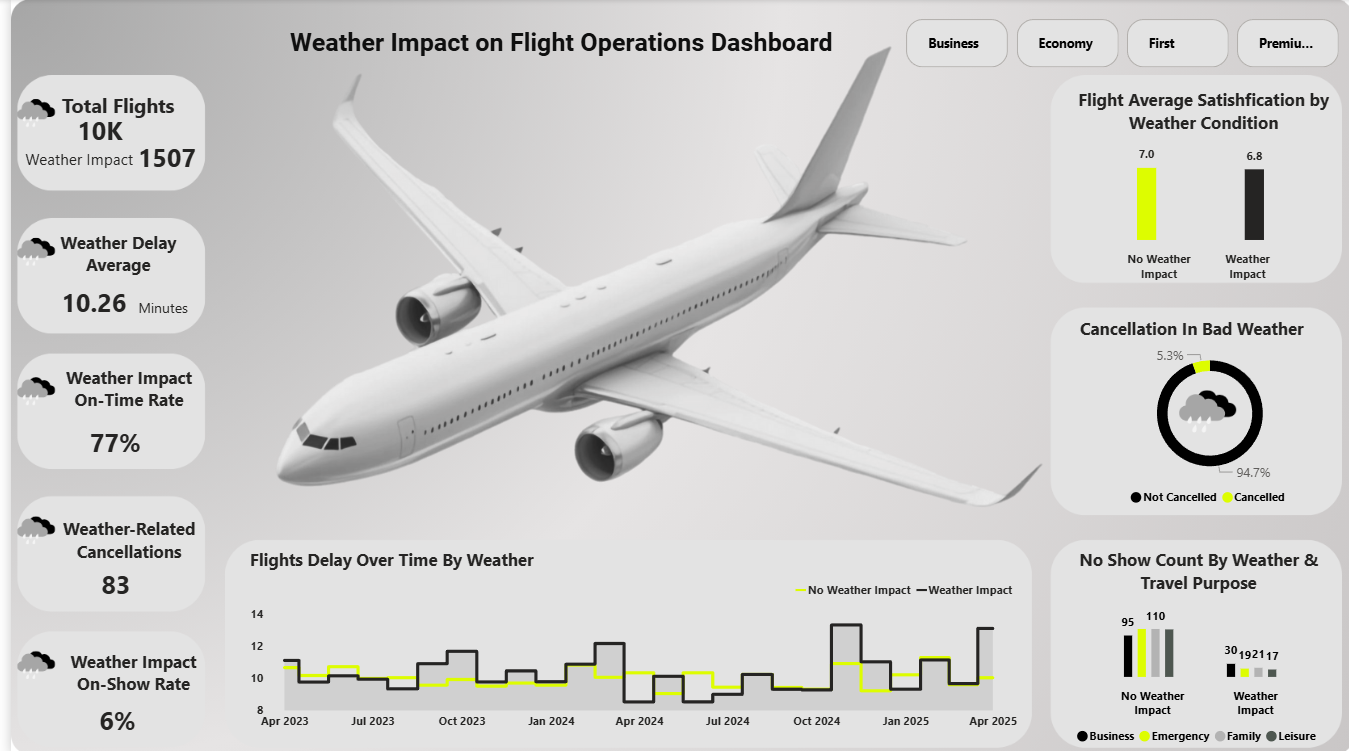

This screenshot's page, from the dashboard's own definition file:
{"tool":"powerbi","page":{"name":"Page 1","canvas":[1280,720],"ordinal":0},"visuals":[{"type":"textbox","box":[260.2,21.1,541.4,42.2],"z":0},{"type":"card","fields":{"Values":["Flights_Dataset.Total Flights"]},"box":[32.8,98.4,103.1,55.1],"z":1000},{"type":"card","fields":{"Values":["Flights_Dataset.Total Flights (weather impact)"]},"box":[104.3,131.3,87.9,43.4],"z":2000},{"type":"card","fields":{"Values":["Flights_Dataset.avg_delay(weather impact)"]},"box":[0,266,158.2,49.2],"z":3000},{"type":"card","fields":{"Values":["Flights_Dataset.ontime%(weather impact)"]},"box":[36.3,397.3,125.4,51.6],"z":4000},{"type":"card","fields":{"Values":["Flights_Dataset.total cancellation (weather impact)"]},"box":[32.8,534.4,133.6,48],"z":5000},{"type":"card","fields":{"Values":["Flights_Dataset.Noshowrate%(weather impact)"]},"box":[52.7,672.7,98.4,31.6],"z":6000},{"type":"areaChart","title":"Flights Delay Over Time By Weather ","fields":{"Y":["Flights_Dataset.Average delay flights"],"Category":["Flights_Dataset.Departure_Time.Variation.Date Hierarchy.Year","Flights_Dataset.Departure_Time.Variation.Date Hierarchy.Month"],"Series":["Flights_Dataset.Weatherimpactlabel"]},"box":[222.7,522.7,740.6,181.6],"z":7000},{"type":"clusteredColumnChart","title":"Flight Average Satishfication by Weather Condition","fields":{"Y":["Flights_Dataset.Average flight satishfication score"],"Category":["Flights_Dataset.Weatherimpactlabel"],"Series":["Flights_Dataset.Weatherimpactlabel"]},"box":[991.4,84.4,288.3,192.2],"z":8000},{"type":"donutChart","title":"Cancellation In Bad Weather","fields":{"Category":["Flights_Dataset.cancelllation_label"],"Y":["CountNonNull(Flights_Dataset.Flight_ID)"]},"box":[1012.5,302.3,257.8,189.8],"z":9000},{"type":"clusteredColumnChart","title":"No Show Count By Weather & Travel Purpose","fields":{"Category":["Flights_Dataset.Weatherimpactlabel"],"Y":["Sum(Flights_Dataset.No_Show)"],"Series":["Flights_Dataset.Travel_Purpose"]},"box":[991.4,522.7,278.9,196.9],"z":10000},{"type":"advancedSlicerVisual","fields":{"Values":["Flights_Dataset.Seat_Class"]},"box":[847.3,14.1,423.1,56.3],"z":11000},{"type":"textbox","box":[36.3,83.2,130.1,43.4],"z":11001},{"type":"textbox","box":[11.7,215.6,180.5,60.9],"z":11002},{"type":"textbox","box":[31.6,344.5,160.5,60.9],"z":11003},{"type":"textbox","box":[36.3,487.5,151.2,70.3],"z":11004},{"type":"textbox","box":[42.2,614.1,150,75],"z":11005},{"type":"textbox","box":[0,137.1,130.1,43.4],"z":11006},{"type":"textbox","box":[79.7,280.1,130.1,43.4],"z":11007}]}

Visuals, with their boxes in screenshot pixels (x1, y1, x2, y2), scaled from the page's 1280x720 canvas onto the 1349x751 screenshot:
textbox: bbox=[274, 22, 845, 66]
card - Flights_Dataset.Total Flights: bbox=[35, 103, 143, 160]
card - Flights_Dataset.Total Flights (weather impact): bbox=[110, 137, 203, 182]
card - Flights_Dataset.avg_delay(weather impact): bbox=[0, 277, 167, 329]
card - Flights_Dataset.ontime%(weather impact): bbox=[38, 414, 170, 468]
card - Flights_Dataset.total cancellation (weather impact): bbox=[35, 557, 175, 607]
card - Flights_Dataset.Noshowrate%(weather impact): bbox=[56, 702, 159, 735]
"Flights Delay Over Time By Weather " areaChart: bbox=[235, 545, 1015, 735]
"Flight Average Satishfication by Weather Condition" clusteredColumnChart: bbox=[1045, 88, 1348, 289]
"Cancellation In Bad Weather" donutChart: bbox=[1067, 315, 1339, 513]
"No Show Count By Weather & Travel Purpose" clusteredColumnChart: bbox=[1045, 545, 1339, 750]
advancedSlicerVisual - Flights_Dataset.Seat_Class: bbox=[893, 15, 1339, 73]
textbox: bbox=[38, 87, 175, 132]
textbox: bbox=[12, 225, 203, 288]
textbox: bbox=[33, 359, 202, 423]
textbox: bbox=[38, 508, 198, 582]
textbox: bbox=[44, 641, 203, 719]
textbox: bbox=[0, 143, 137, 188]
textbox: bbox=[84, 292, 221, 337]
